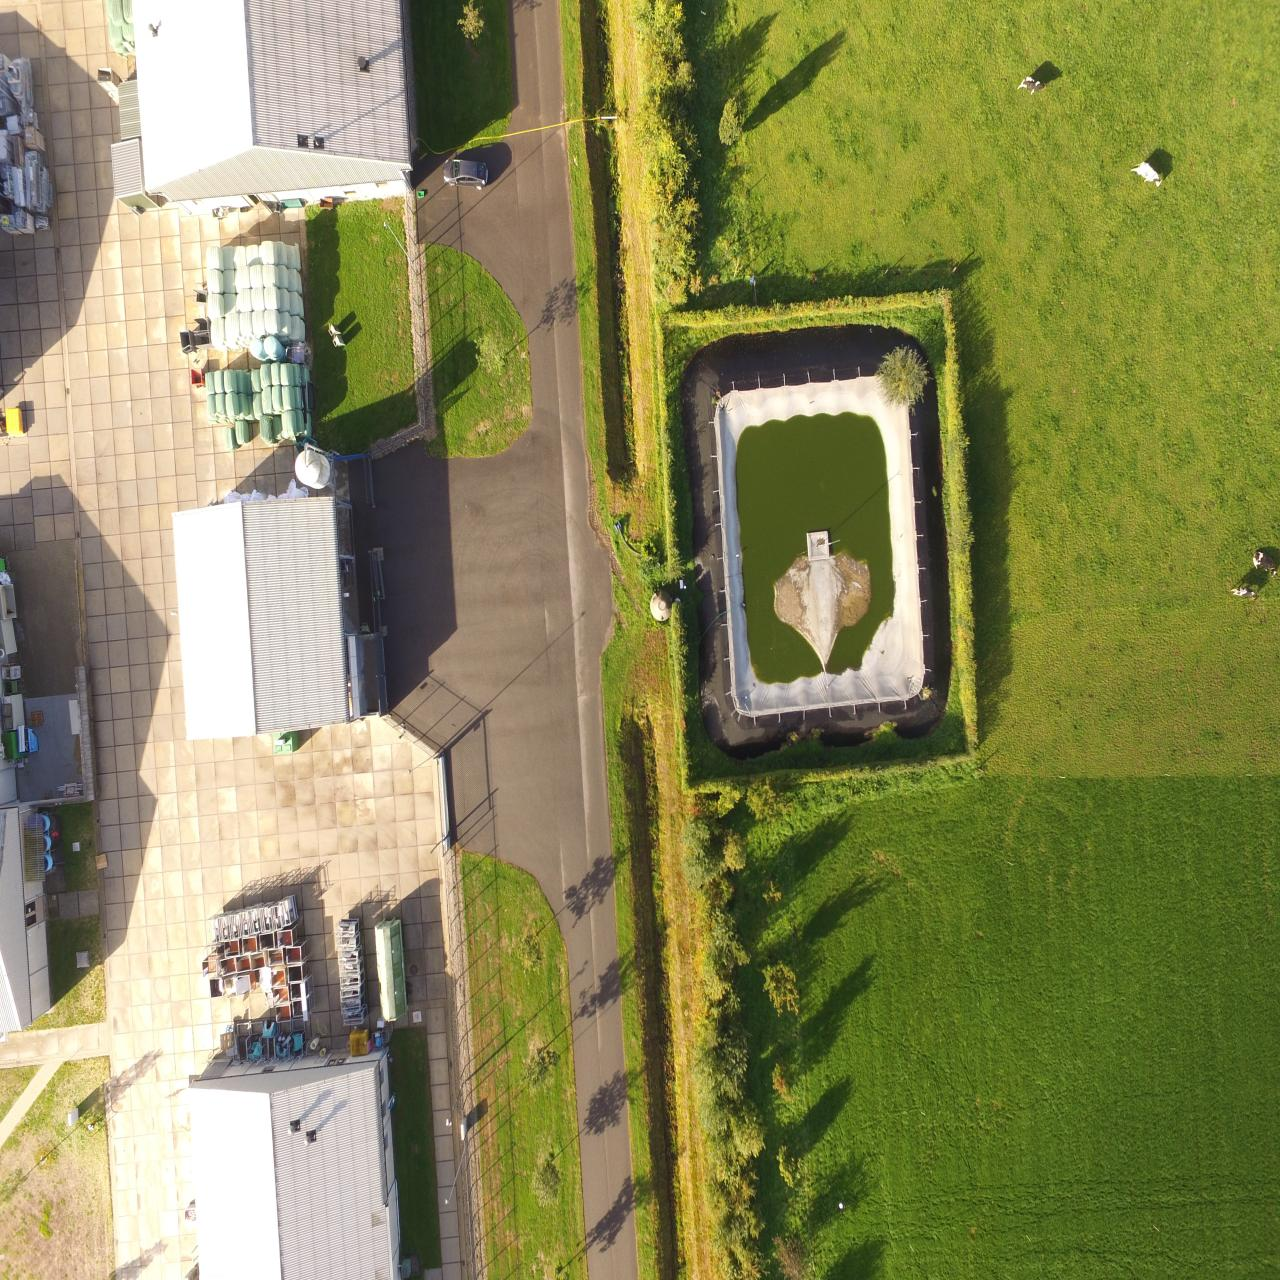cow: (1124, 159, 1165, 193), (1224, 577, 1261, 608), (1247, 546, 1280, 579), (1015, 75, 1051, 104)
